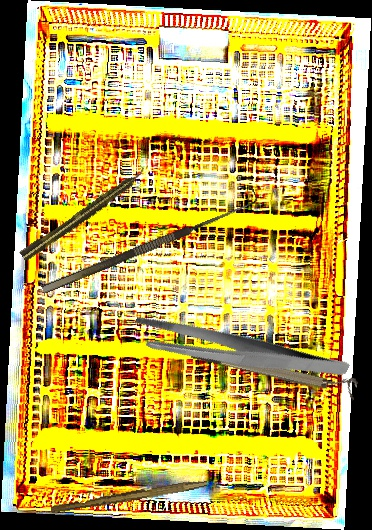Dressing Forceps: (127, 271, 351, 430)
Fixation Ring: (190, 338, 359, 402)
Handpiece: (18, 165, 150, 263)
Hook Surgical: (36, 187, 261, 294)
Scalpel Handle: (50, 475, 208, 517)
